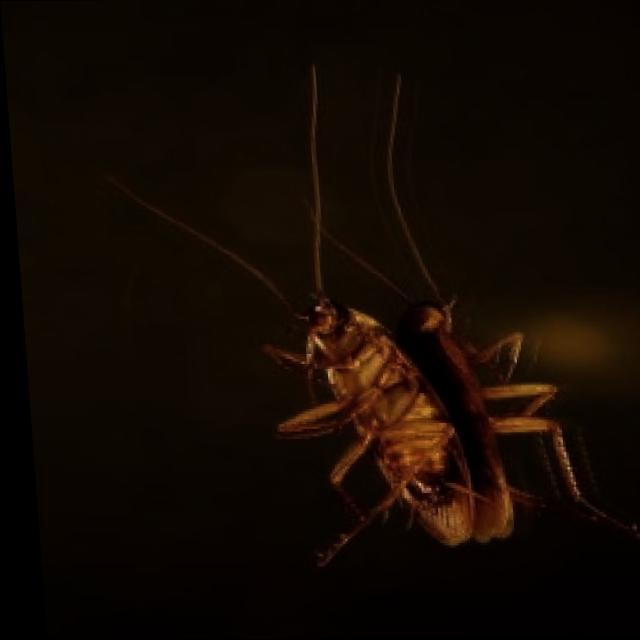cockroach: (205, 151, 545, 610)
